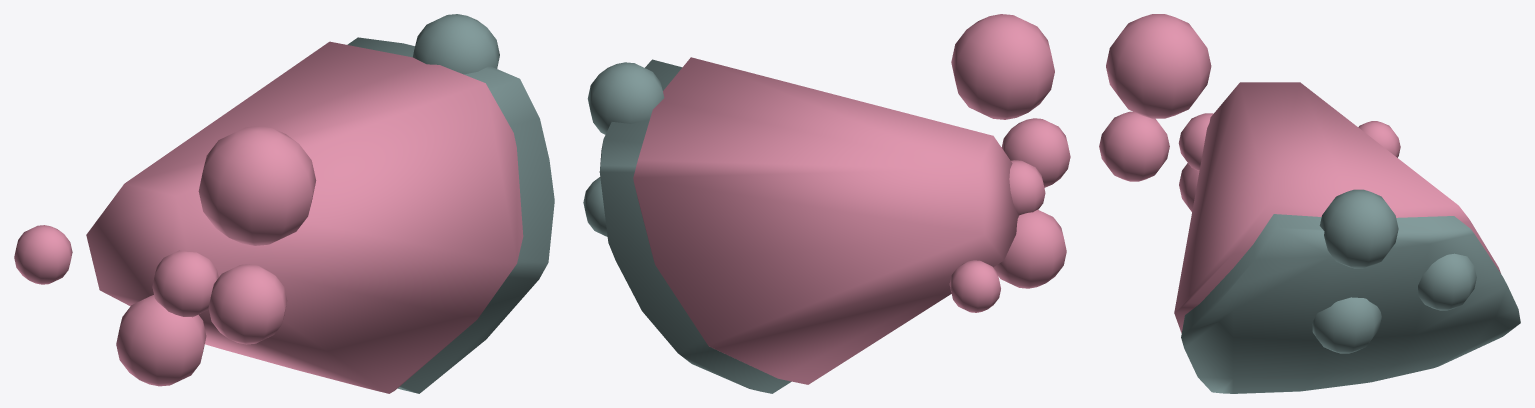
File: chunk27.glb
3 views of the same model, side by side, from view 1: azimuth 30°, elevation 25°; view 2: azimuth 150°, elevation 25°; view 3: azimuth 270°, elevation 25° (orthographic). The views are drawn at different scales.
Parts seen in each view (by area): view 1: flesh, skin; view 2: flesh, skin; view 3: skin, flesh.
Part boxes in pixels (x1=…): flesh: x1=14, y1=41, x2=523, y2=393; skin: x1=347, y1=14, x2=554, y2=393; flesh: x1=633, y1=14, x2=1070, y2=384; skin: x1=583, y1=59, x2=791, y2=393; skin: x1=1181, y1=189, x2=1520, y2=393; flesh: x1=1099, y1=14, x2=1500, y2=332.
Size of the model in its own units: 0.9232 by 0.6562 by 0.8244.
